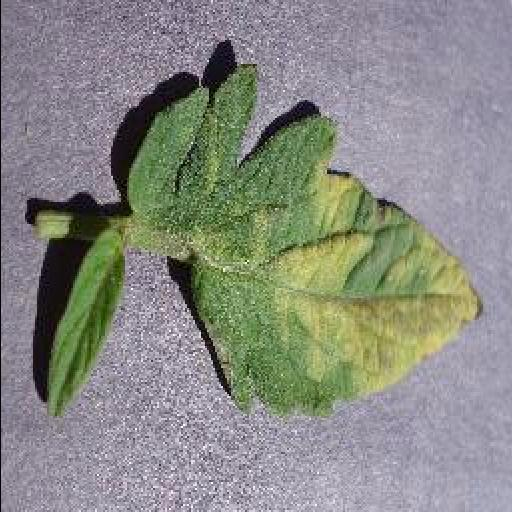disease_tomato: (124, 67, 480, 416)
